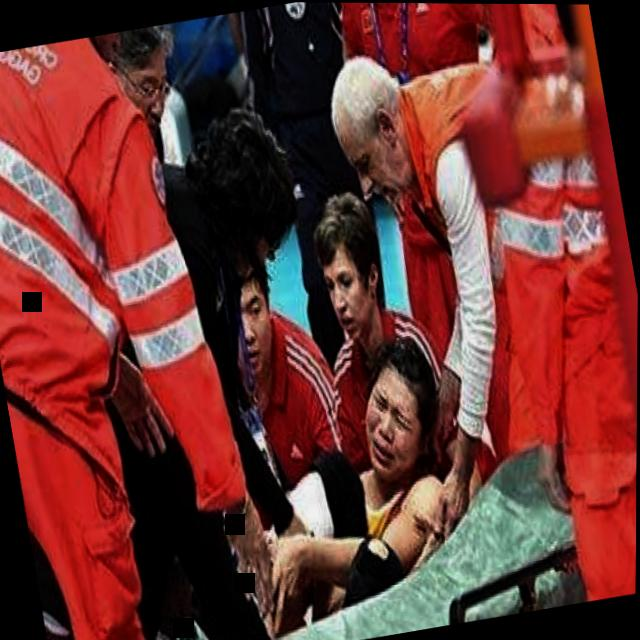Fall-Detected: (123, 276, 506, 640)
